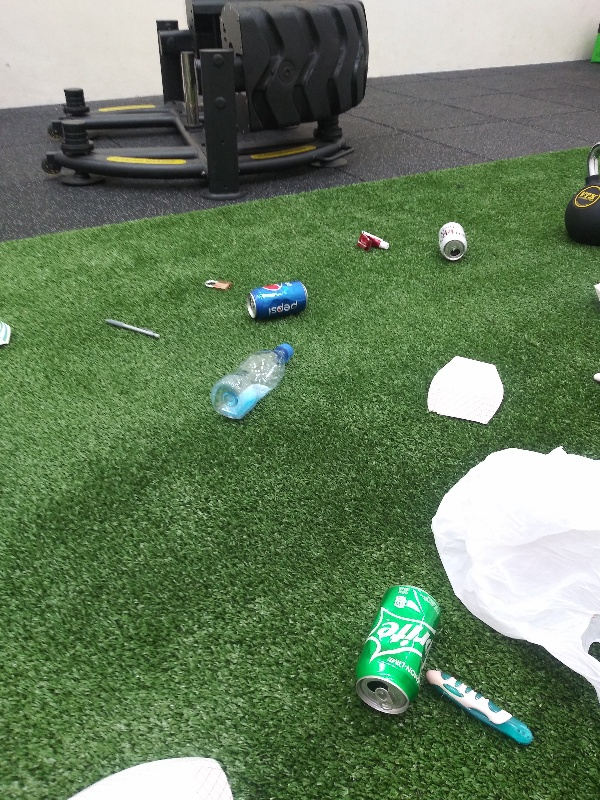bottle: (208, 343, 302, 425)
can: (342, 581, 447, 715), (242, 278, 310, 322), (435, 220, 471, 267)
plate: (424, 355, 506, 430), (1, 316, 14, 346)
